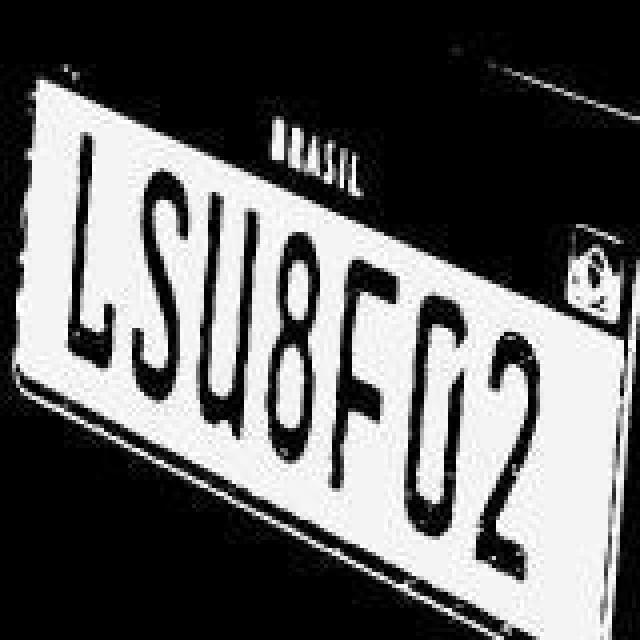2: (476, 326, 532, 586)
8: (266, 226, 318, 462)
D: (402, 290, 462, 542)
F: (324, 254, 396, 498)
L: (62, 124, 122, 372)
S: (132, 166, 188, 410)
U: (200, 176, 264, 456)
